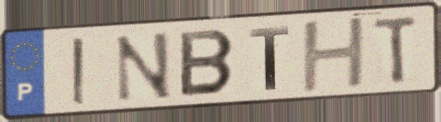B: (177, 28, 238, 99)
H: (300, 13, 369, 95)
I: (69, 35, 89, 107)
N: (113, 29, 174, 105)
T: (371, 13, 421, 87), (247, 24, 292, 93)
